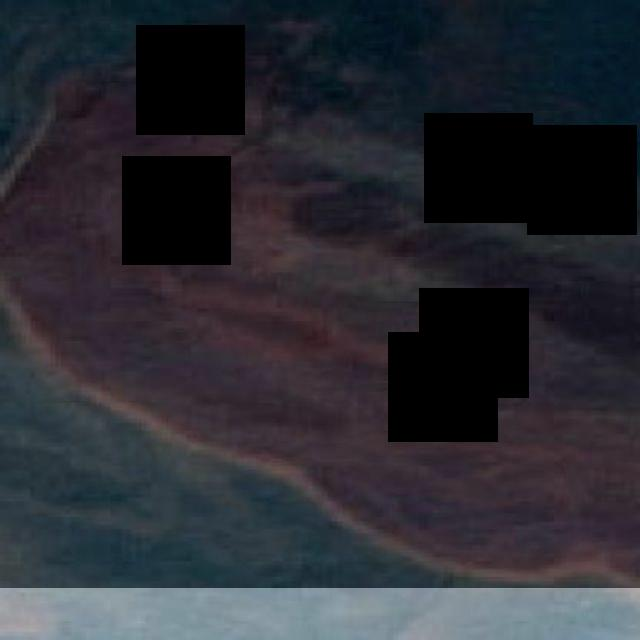oil spill: (0, 0, 640, 588)
